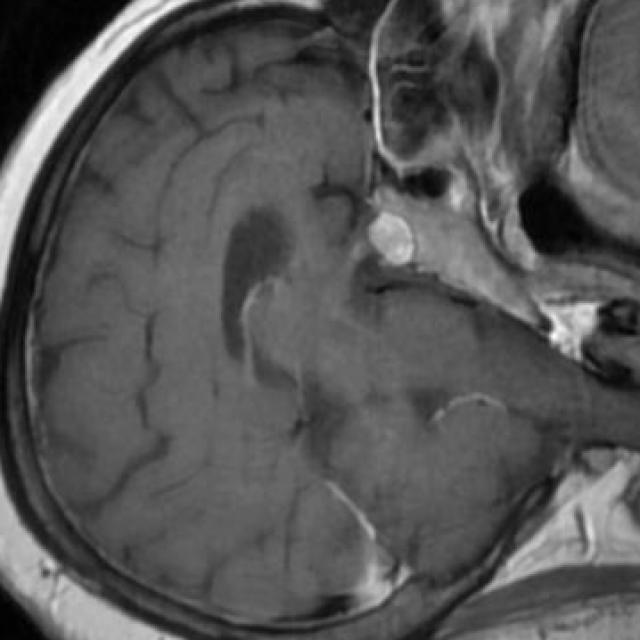pituitary: (367, 216, 414, 266)
